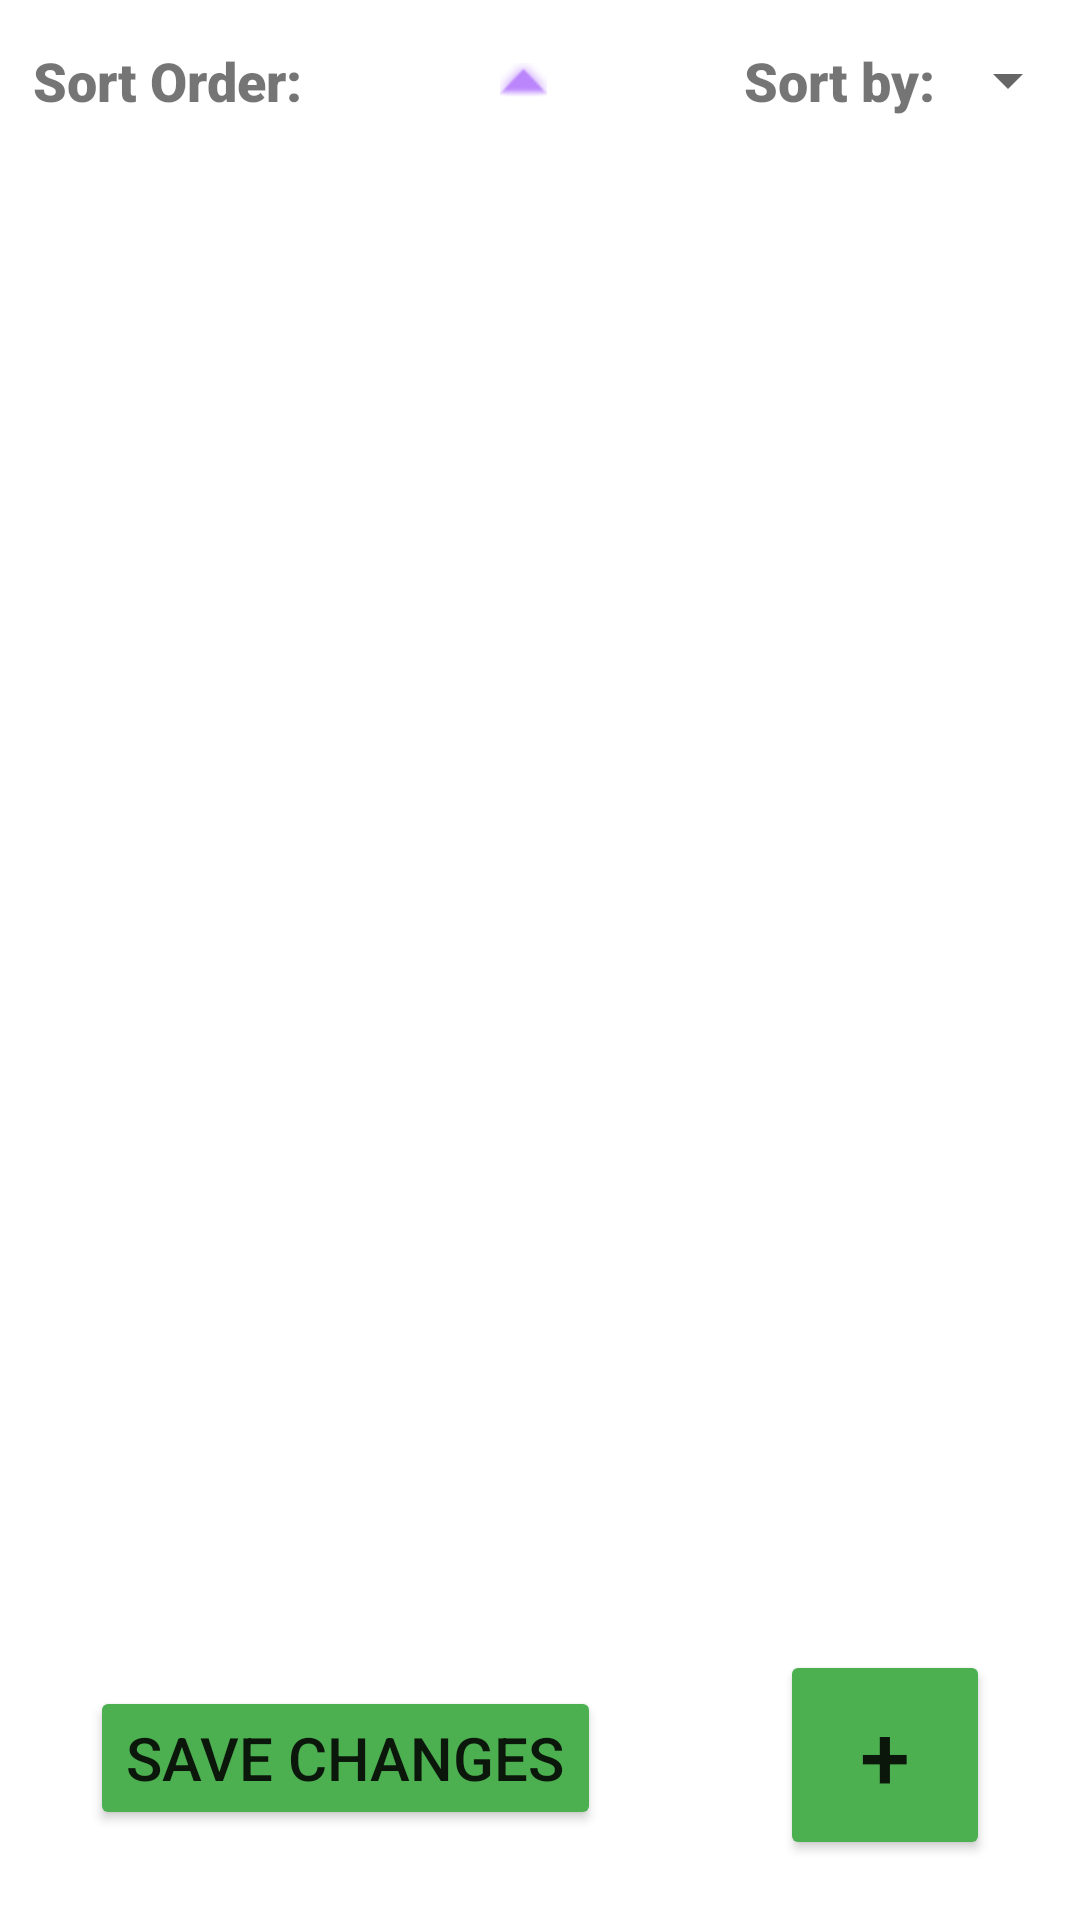

Named icons in this screenshot (1080 × 1920) and their bounding boxes, (x1, y1, x2, y2):
arrow up float: (500, 67, 547, 95)
